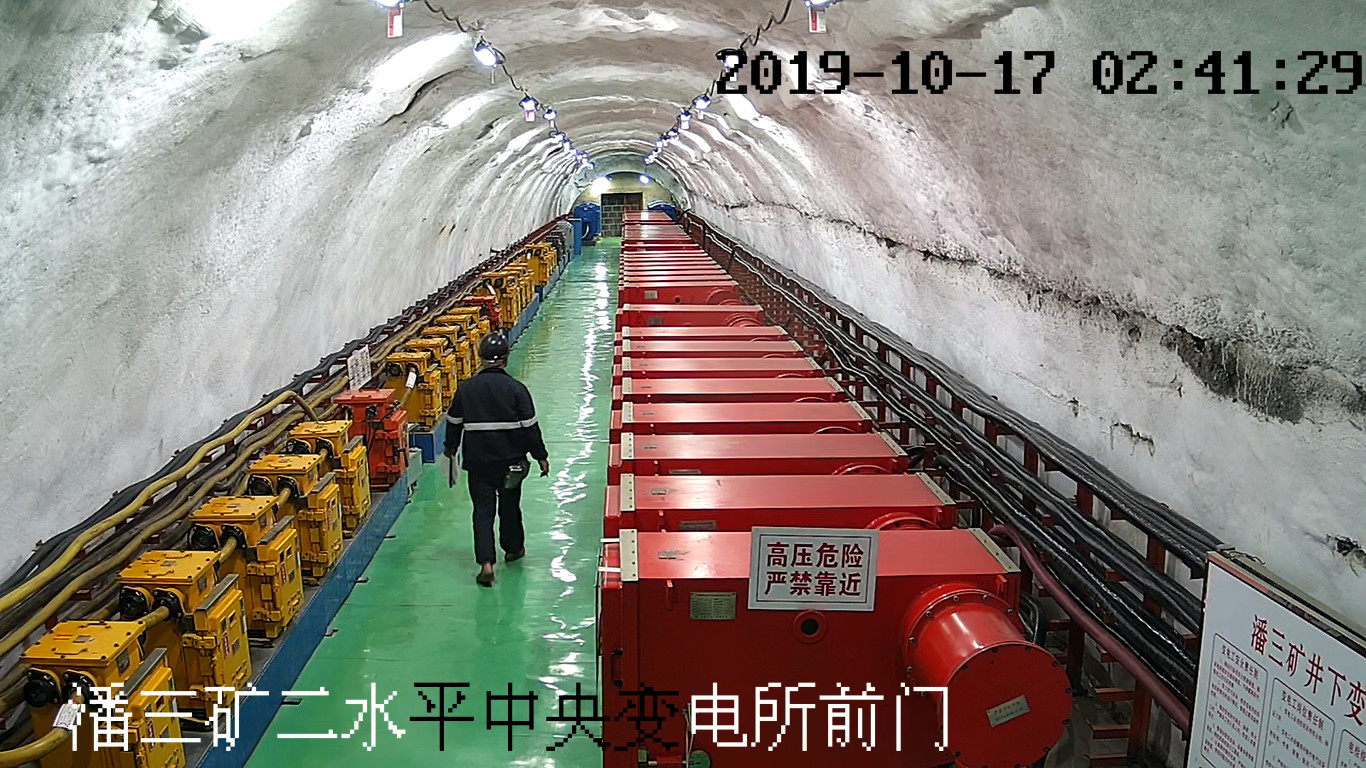helmet: (478, 330, 509, 363)
